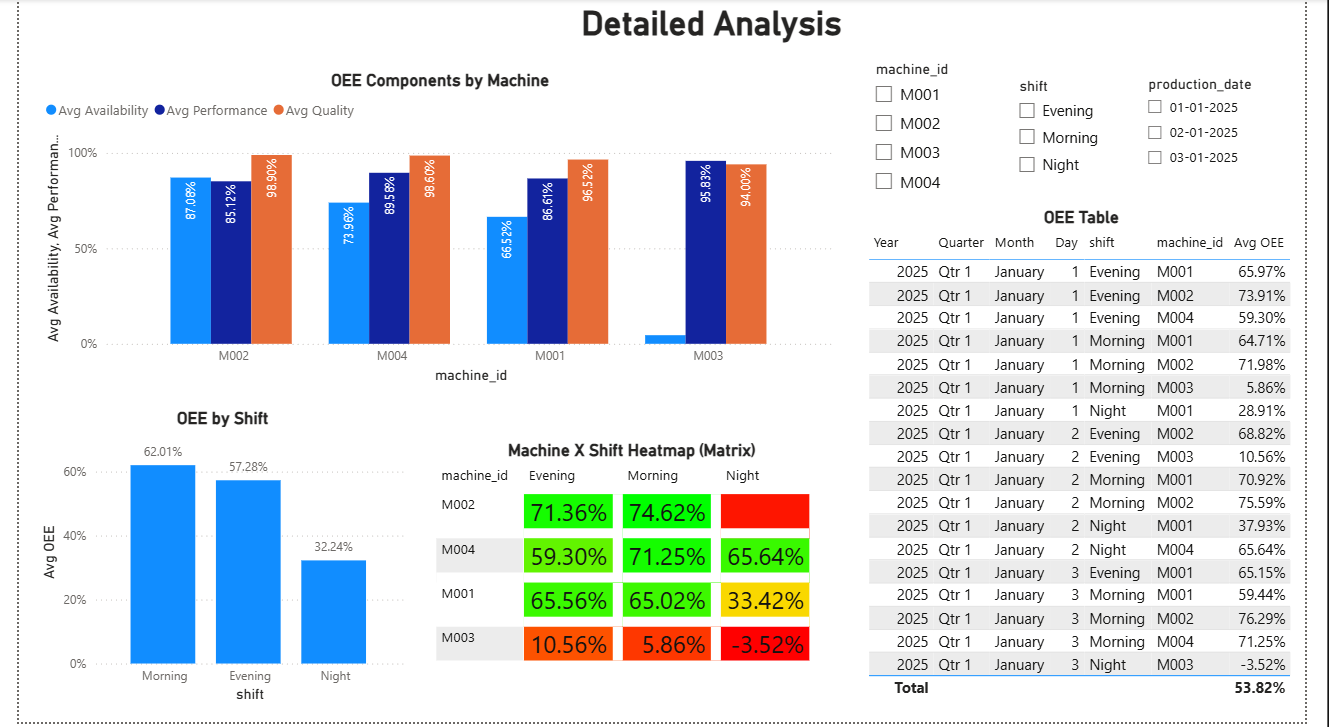

The page's visual inventory and layout, read from the dashboard file:
{"tool":"powerbi","page":{"name":"Detailed Analysis","canvas":[1280,720],"ordinal":1},"visuals":[{"type":"slicer","fields":{"Values":["oee_powerbi.shift"]},"box":[982.7,73.4,116.9,110.7],"z":0},{"type":"slicer","fields":{"Values":["oee_powerbi.machine_id"]},"box":[839.7,56,133.1,150.5],"z":1000},{"type":"slicer","fields":{"Values":["oee_powerbi.production_date"]},"box":[1110.9,70.9,169.2,113.2],"z":2000},{"type":"clusteredColumnChart","title":"OEE by Shift","fields":{"Category":["oee_powerbi.shift"],"Y":["oee_powerbi.Avg OEE"]},"box":[17.4,406.8,370.7,298.6],"z":3000},{"type":"clusteredColumnChart","title":"OEE Components by Machine","fields":{"Category":["oee_powerbi.machine_id"],"Y":["oee_powerbi.Avg Availability","oee_powerbi.Avg Performance","oee_powerbi.Avg Quality"]},"box":[21.1,70.9,796.1,316],"z":4000},{"type":"pivotTable","title":"Machine X Shift Heatmap (Matrix)","fields":{"Rows":["oee_powerbi.machine_id"],"Columns":["oee_powerbi.shift"],"Values":["oee_powerbi.Avg OEE"]},"box":[410.5,439.1,398.1,235.1],"z":5000},{"type":"tableEx","title":"OEE Table","fields":{"Values":["oee_powerbi.production_date.Variation.Date Hierarchy.Year","oee_powerbi.production_date.Variation.Date Hierarchy.Quarter","oee_powerbi.production_date.Variation.Date Hierarchy.Month","oee_powerbi.production_date.Variation.Date Hierarchy.Day","oee_powerbi.shift","oee_powerbi.machine_id","oee_powerbi.Avg OEE"]},"box":[839.7,206.5,435.4,498.8],"z":6000},{"type":"textbox","box":[554.8,0,284.9,70.9],"z":7000}]}

Visuals, with their boxes in screenshot pixels (x1, y1, x2, y2), scaled from the page's 1280x720 canvas onto the 1329x727 screenshot:
slicer - oee_powerbi.shift: crop(1020, 74, 1142, 186)
slicer - oee_powerbi.machine_id: crop(872, 57, 1010, 209)
slicer - oee_powerbi.production_date: crop(1153, 72, 1328, 186)
"OEE by Shift" clusteredColumnChart: crop(18, 411, 403, 712)
"OEE Components by Machine" clusteredColumnChart: crop(22, 72, 848, 391)
"Machine X Shift Heatmap (Matrix)" pivotTable: crop(426, 443, 840, 681)
"OEE Table" tableEx: crop(872, 209, 1324, 712)
textbox: crop(576, 0, 872, 72)
